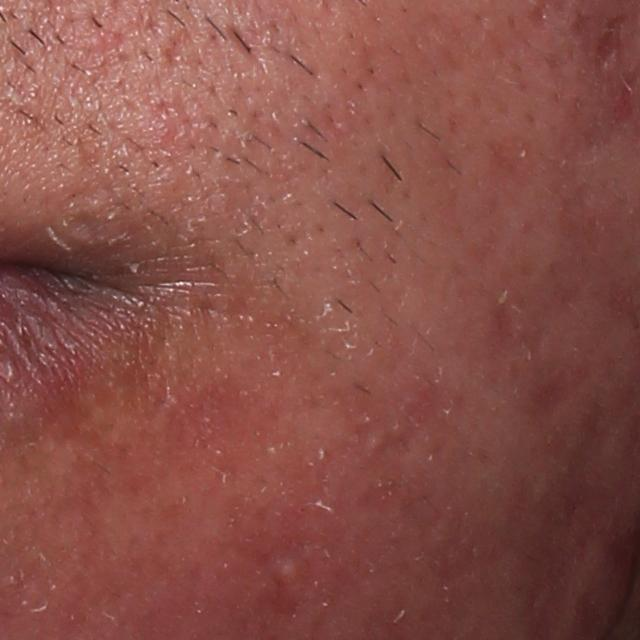atrophic_scar: (511, 366, 580, 424), (148, 93, 188, 161), (166, 27, 191, 67)
